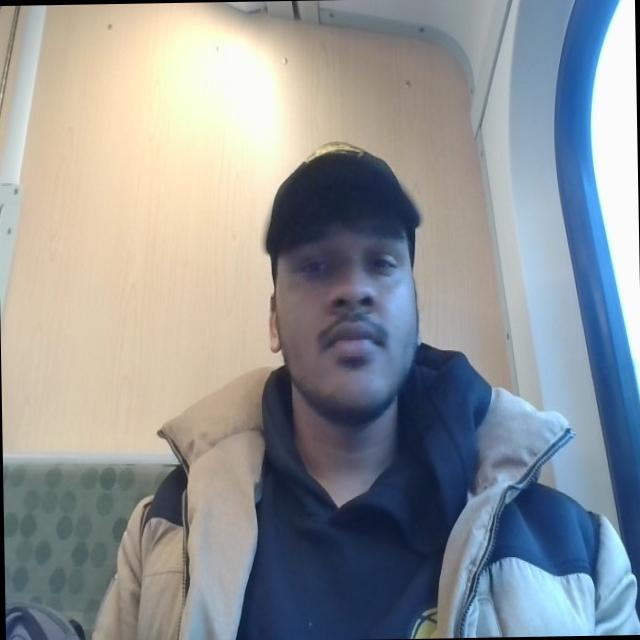hat: (258, 129, 429, 258)
